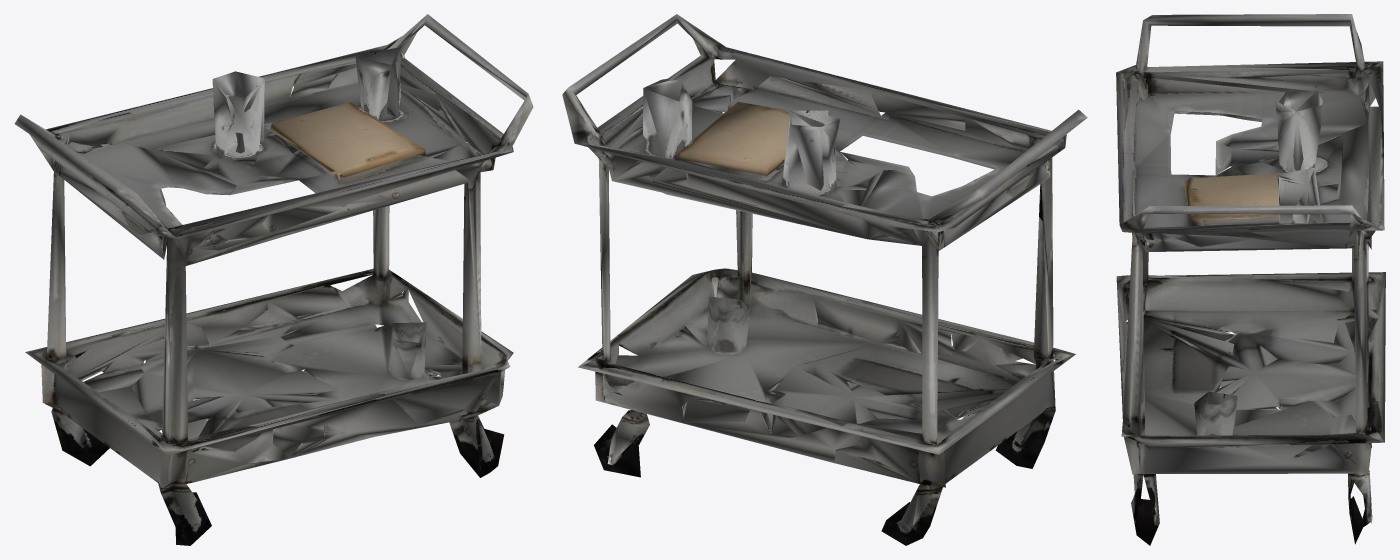
File: lab_cart.glb
3 views of the same model, side by side, from view 1: azimuth 30°, elevation 25°; view 2: azimuth 150°, elevation 25°; view 3: azimuth 270°, elevation 25° (orthographic). The views are drawn at different scales.
Parts seen in each view (by area): view 1: Model; view 2: Model; view 3: Model.
Boxes of the visible parts, left/top/right/bottom form: Model: left=14, top=14, right=533, bottom=545; Model: left=562, top=14, right=1087, bottom=545; Model: left=1116, top=14, right=1385, bottom=545.
Size of the model in its own units: 0.9996 by 0.8624 by 0.5777.
Materials: 1 (1 with a texture image).
